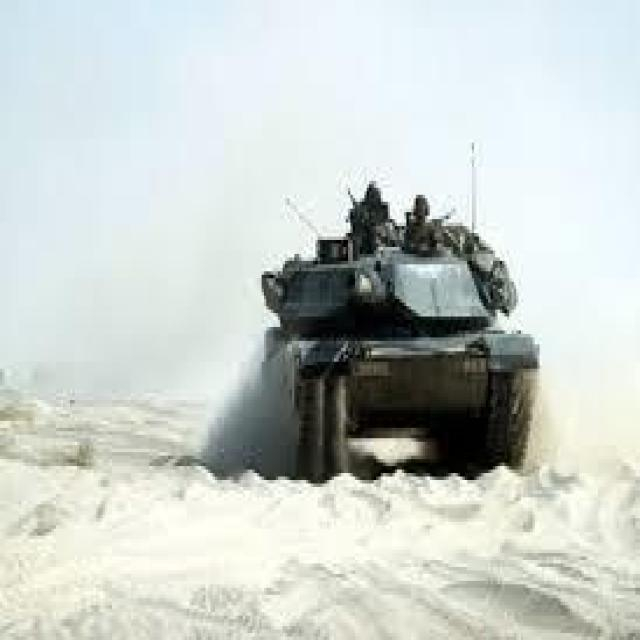Tanks: (257, 192, 537, 484)
